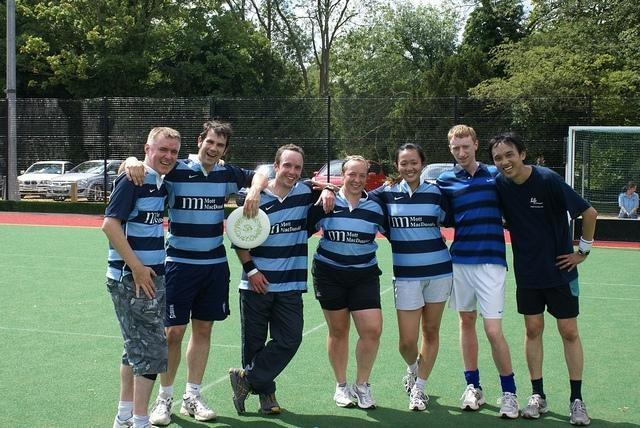car: (49, 160, 124, 203), (311, 160, 387, 192), (16, 160, 76, 200), (235, 162, 275, 207), (421, 163, 458, 184)
